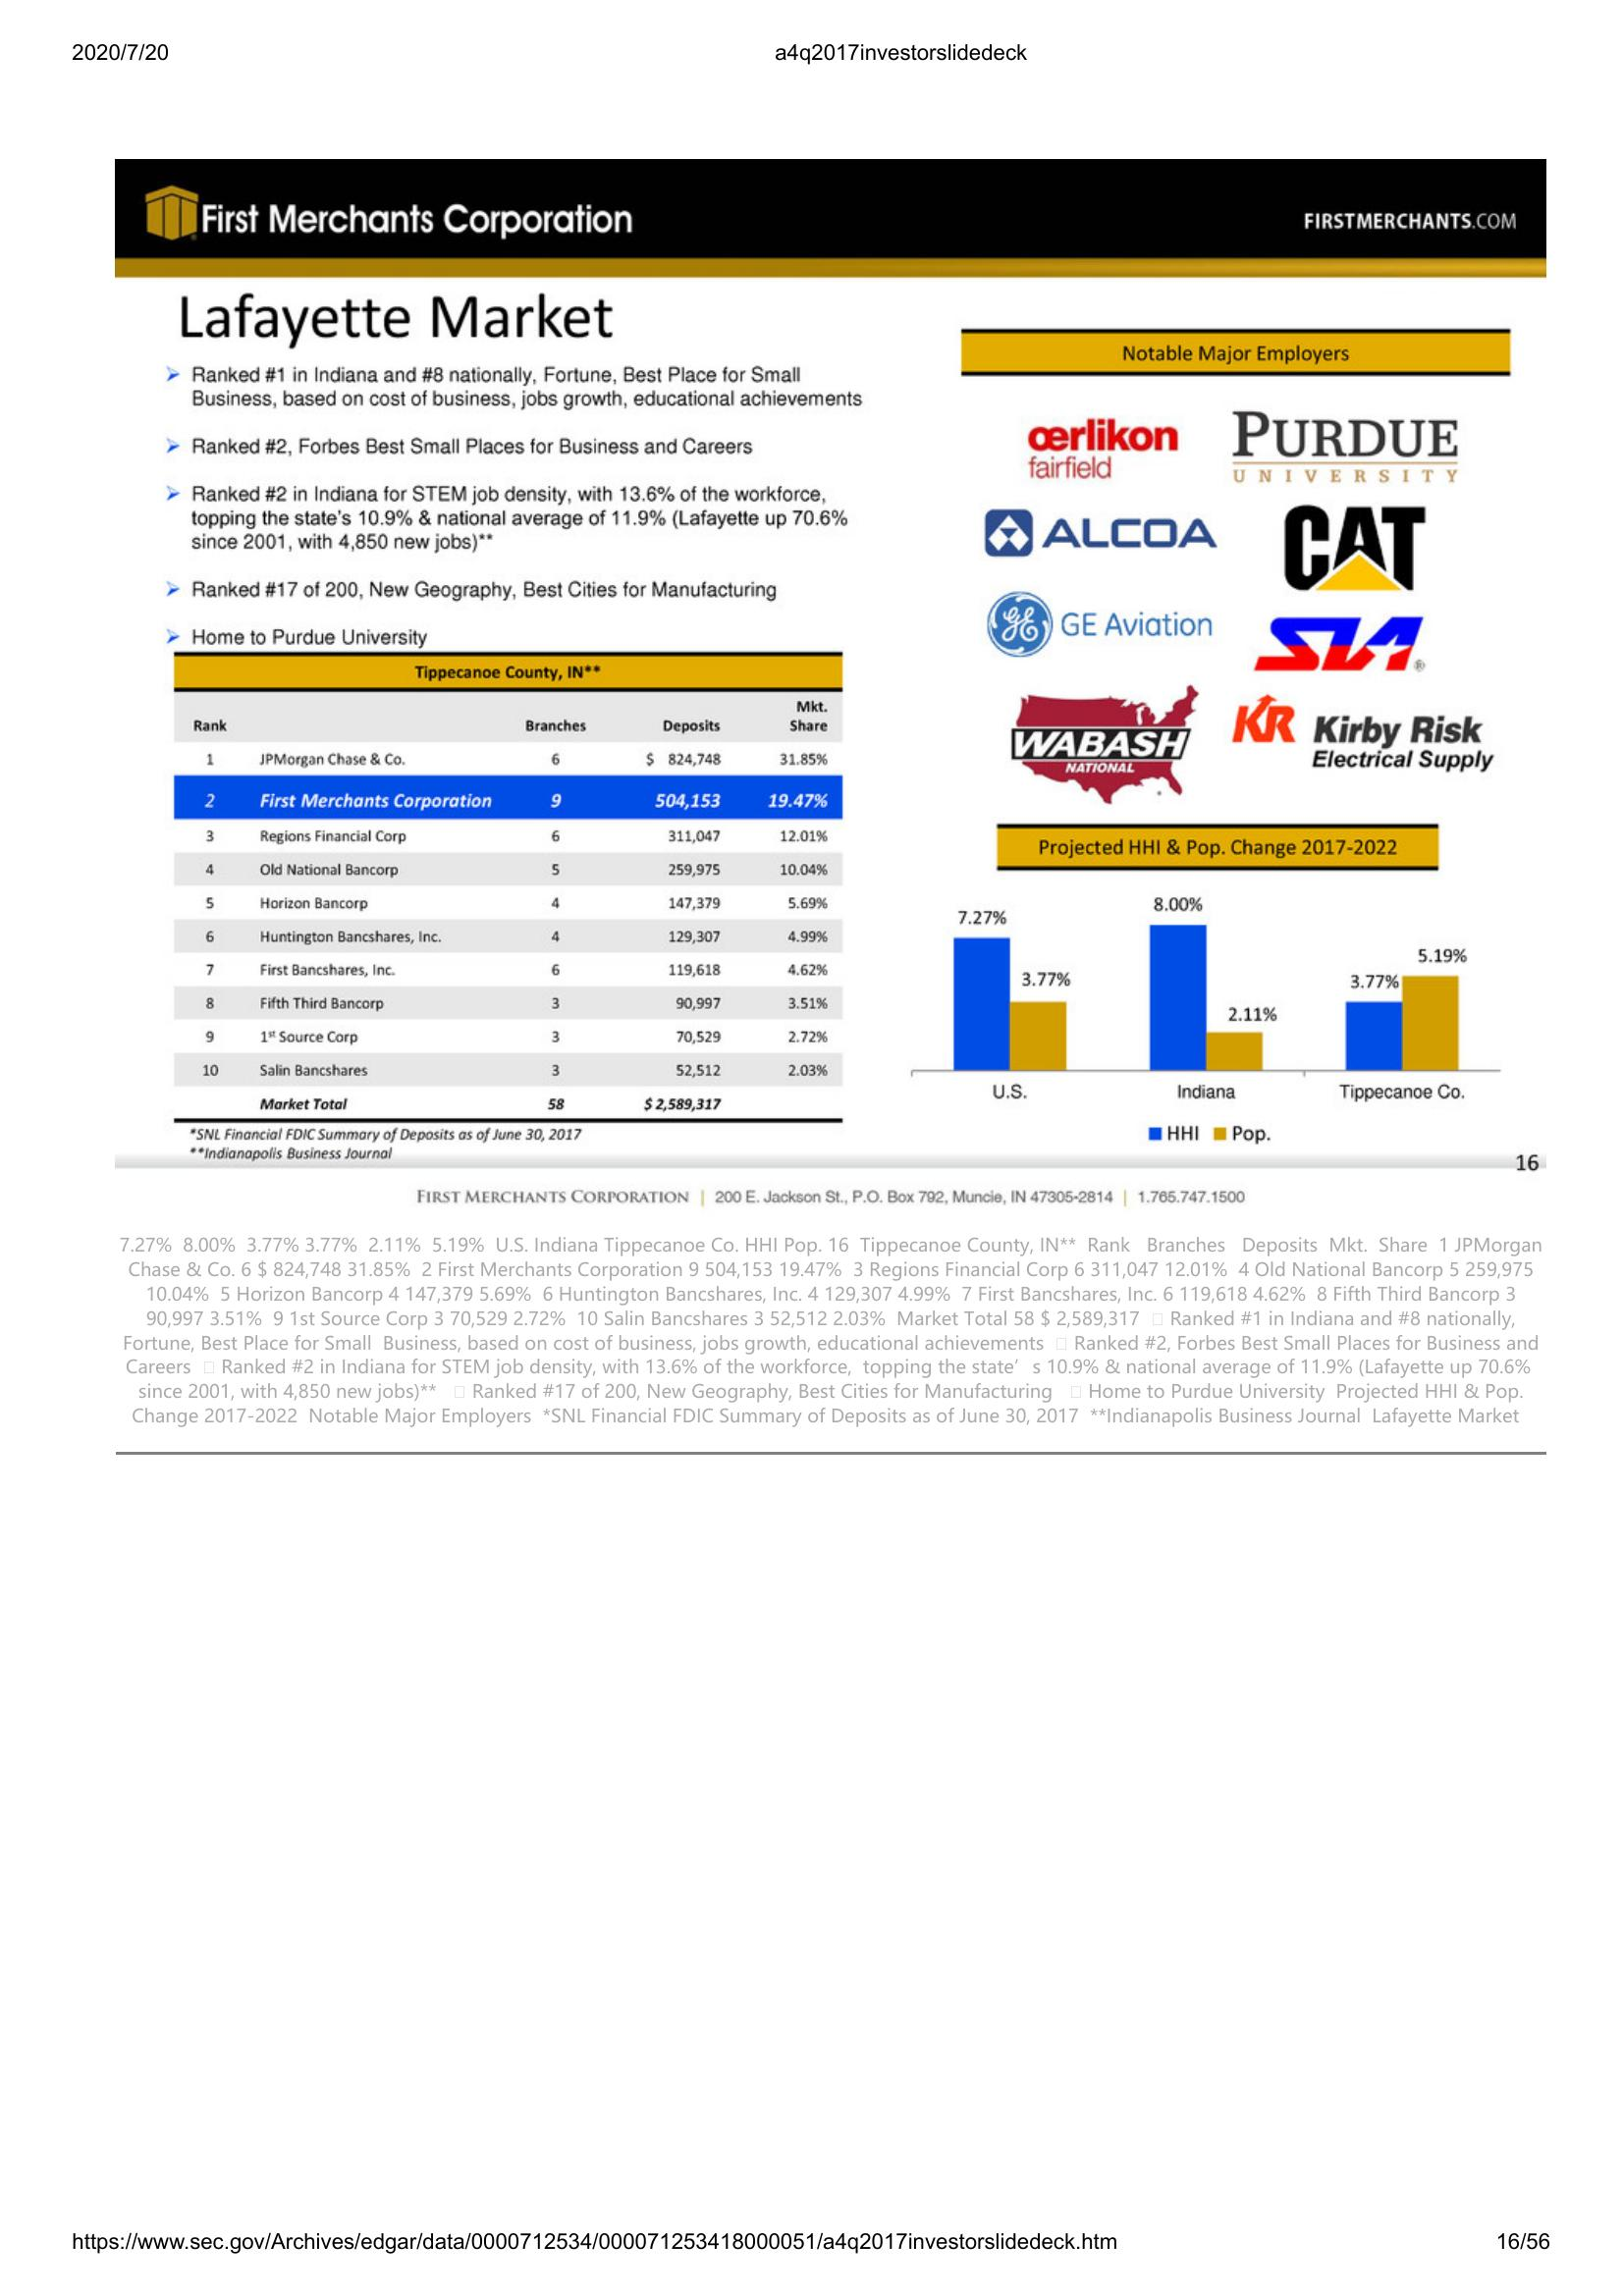table: (170, 644, 855, 1127)
